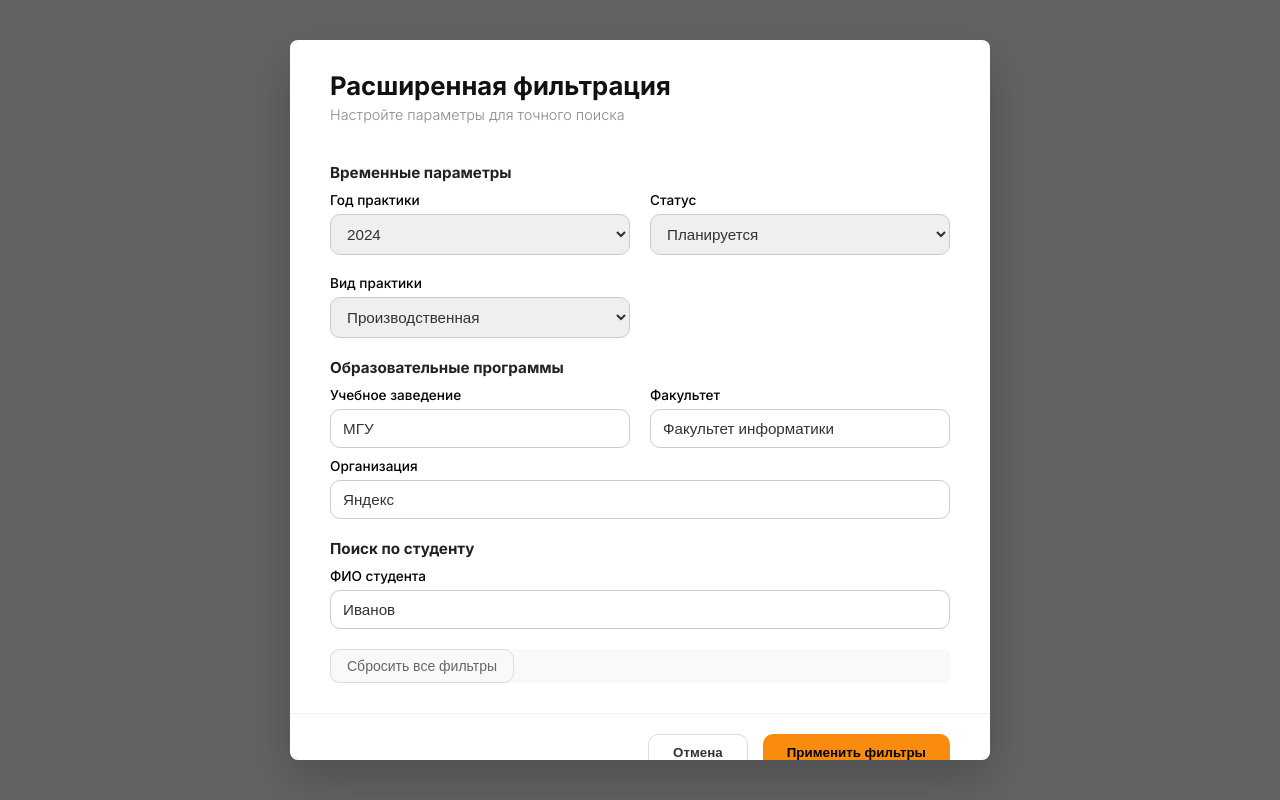
Test: FilterModal › Взаимодействие › должен сбрасывать фильтры при нажатии кнопки сброса
The width and height of the screenshot is (1280, 800).
Click the button "Сбросить все фильтры" at [422, 666], box x1=330 y1=649 x2=514 y2=683
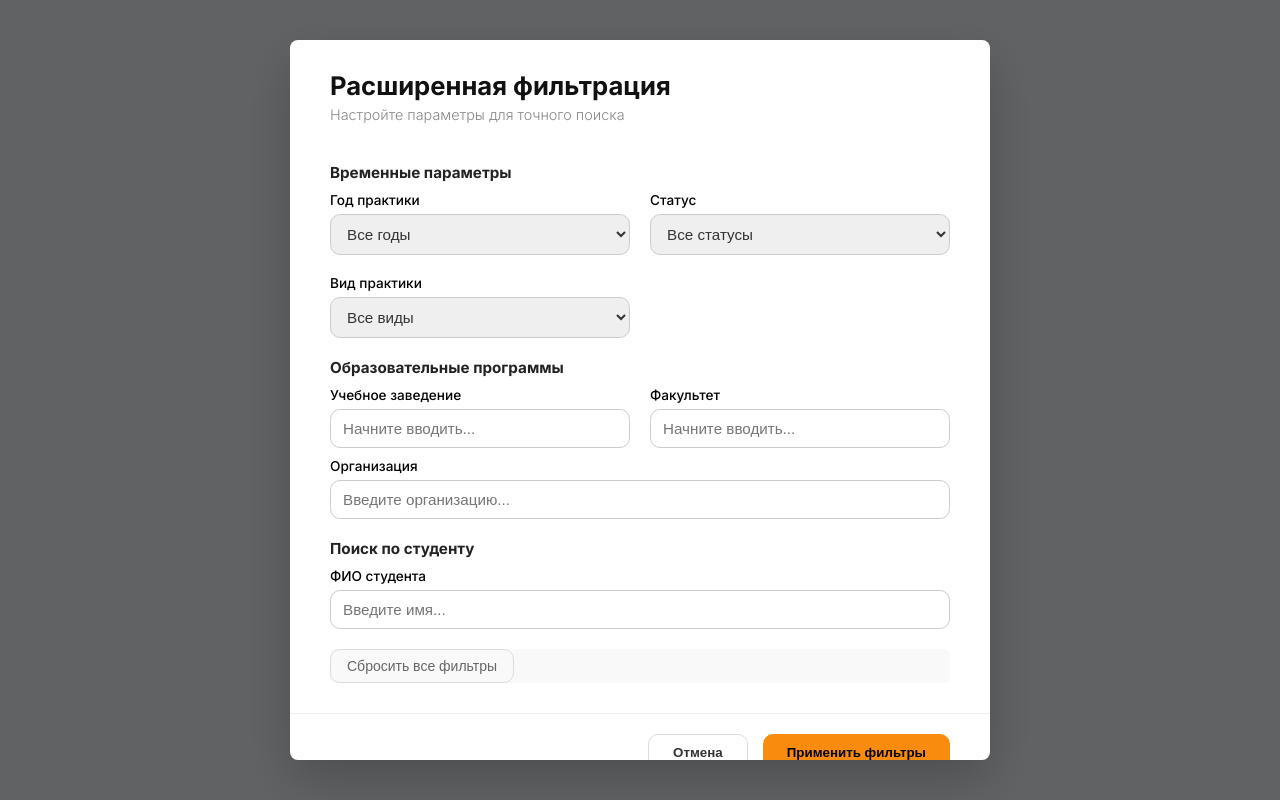
Expected: the dropdown below "Год практики" shows "Все годы", x1=330 y1=214 x2=630 y2=255
Expected: the dropdown below "Статус" shows "Все статусы", x1=650 y1=214 x2=950 y2=255
Expected: the dropdown below "Вид практики" shows "Все виды", x1=330 y1=297 x2=630 y2=338
